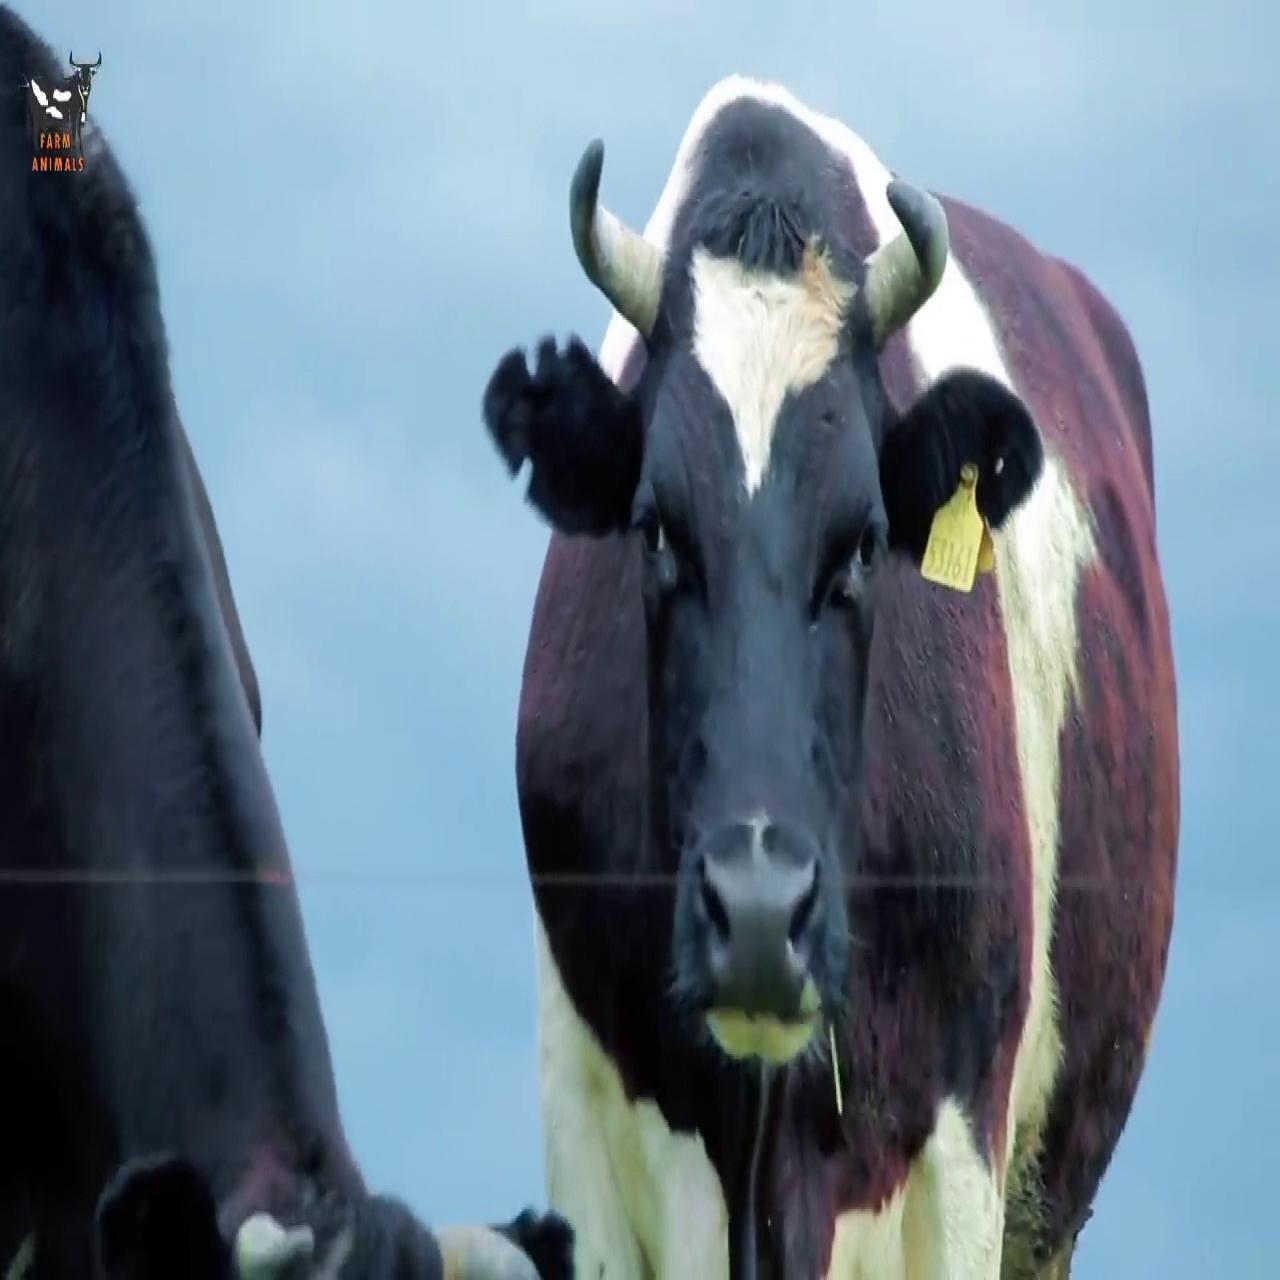Face: (652, 235, 877, 1031)
